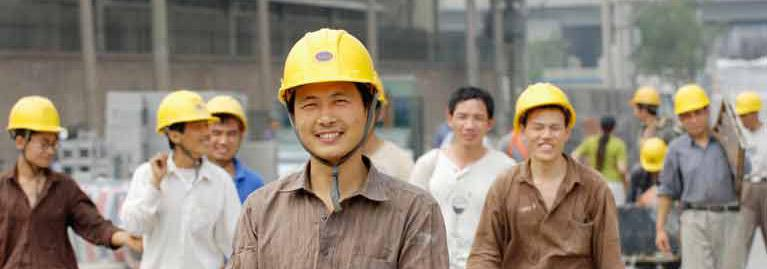helmet: (277, 28, 384, 107), (513, 82, 579, 135), (156, 90, 220, 136), (7, 96, 66, 136), (209, 91, 250, 132), (674, 84, 714, 117), (639, 139, 670, 173), (630, 84, 664, 110), (734, 91, 763, 117)
